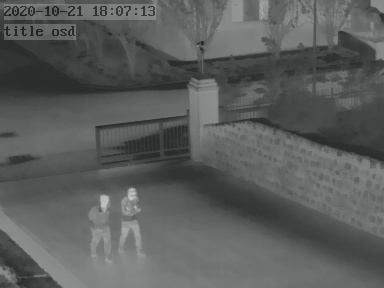person: (87, 193, 115, 263), (118, 185, 144, 253)
